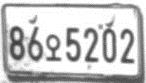0: (102, 27, 117, 63)
2: (83, 27, 99, 63), (120, 28, 135, 64)
5: (65, 27, 81, 61)
6: (27, 25, 43, 61)
8: (8, 25, 25, 61)
오: (45, 33, 62, 63)
